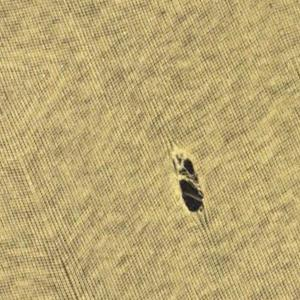hole: (170, 144, 210, 217)
